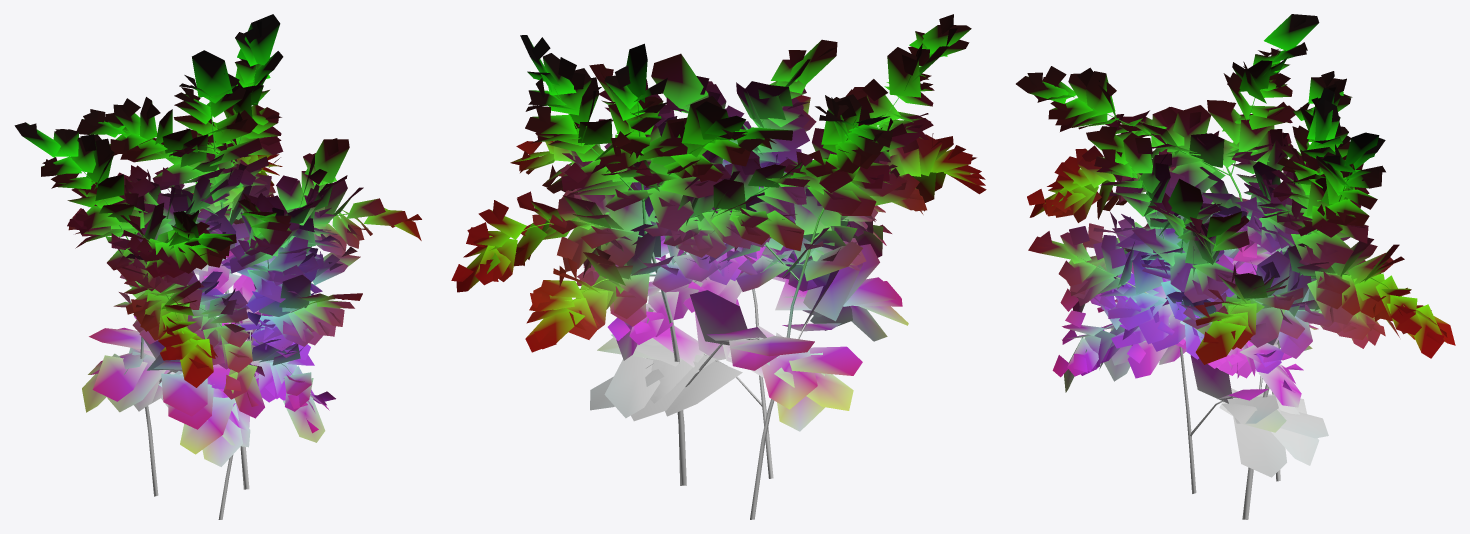
Rendered from arden_forest_hazel_02.fbx.
3 renders of one model, left to right at view 1: azimuth 30°, elevation 25°; view 2: azimuth 150°, elevation 25°; view 3: azimuth 270°, elevation 25°, orthographic. The views are drawn at different scales.
Visible parts, largest first — view 1: arden_forest_hazel_02; view 2: arden_forest_hazel_02; view 3: arden_forest_hazel_02.
Part boxes in pixels (x1=…): arden_forest_hazel_02: x1=14, y1=14, x2=421, y2=519; arden_forest_hazel_02: x1=451, y1=14, x2=986, y2=519; arden_forest_hazel_02: x1=1016, y1=14, x2=1455, y2=519.
Bounding box in the file's own units: 6.65 × 6.72 × 7.24.
